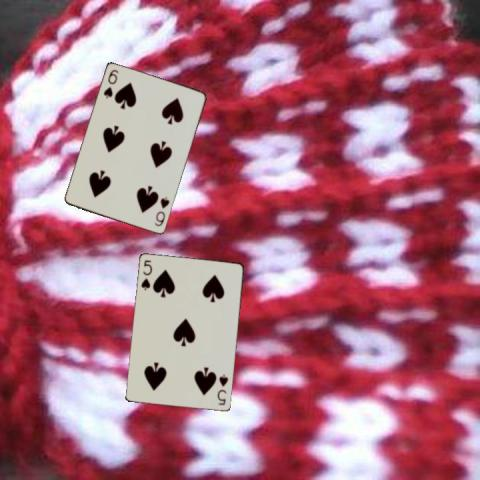5s: (138, 257, 153, 292), (215, 371, 229, 407)
6s: (152, 194, 171, 228), (101, 67, 120, 100)
